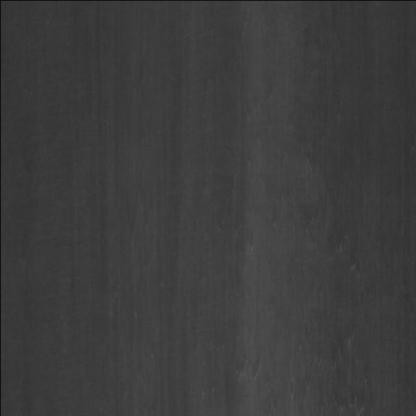silk_spot: (300, 234, 374, 392)
